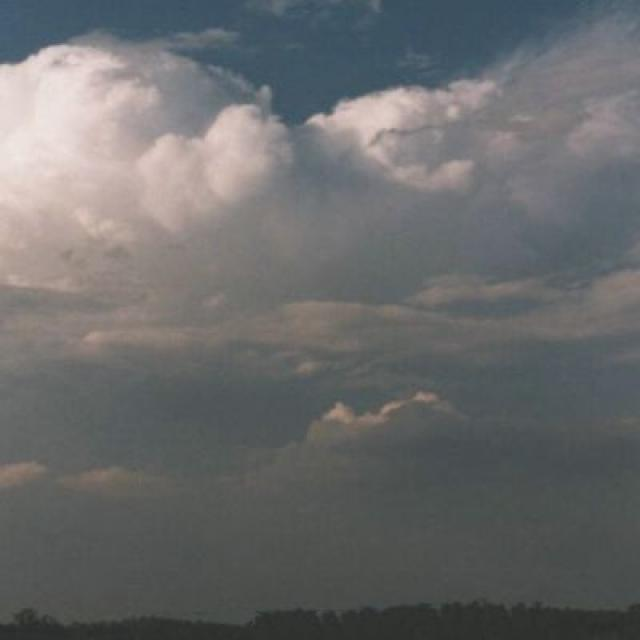St: (1, 31, 640, 554)
